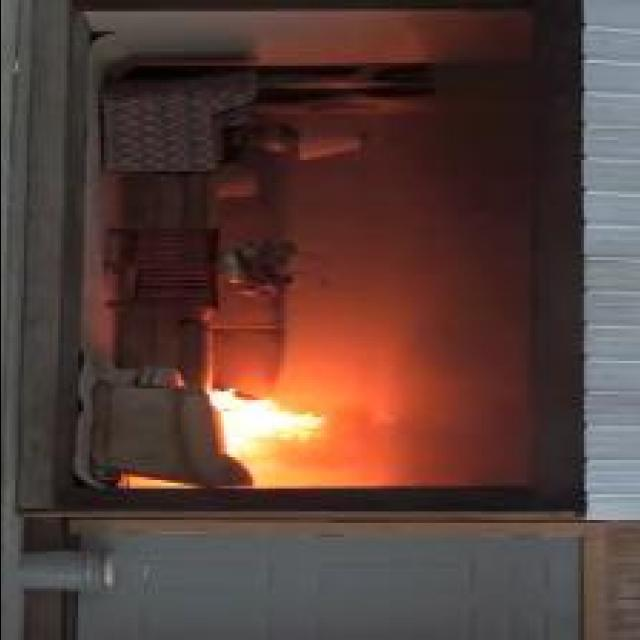Fire: (207, 390, 324, 456)
